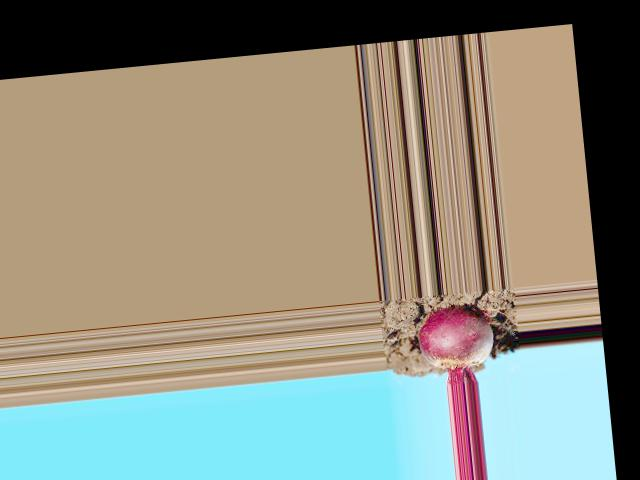beet: (416, 302, 498, 387)
